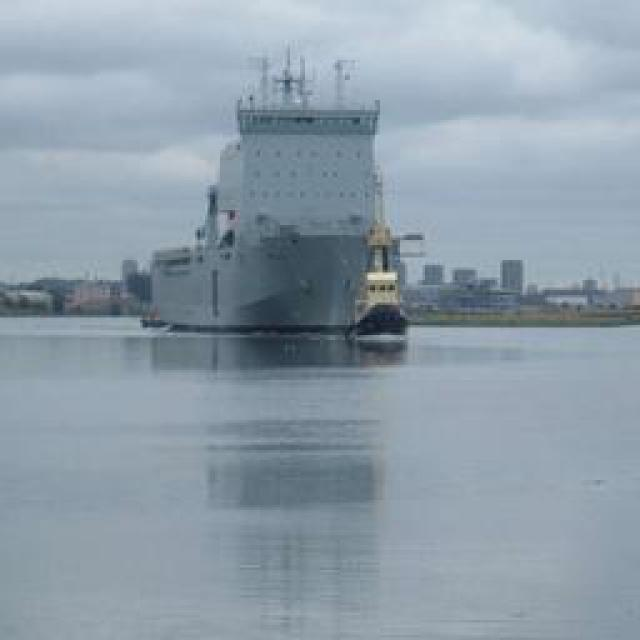Ship: (143, 87, 398, 347)
